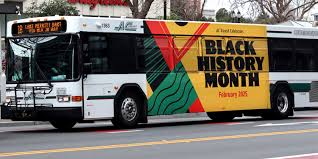bus: (1, 16, 318, 129)
